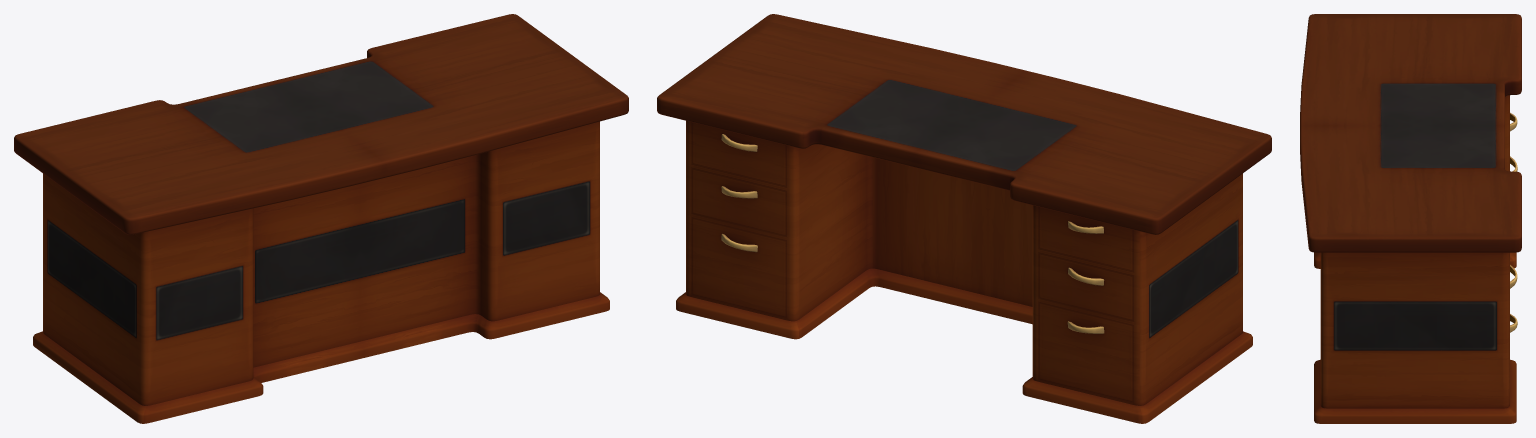
Rendered from OfficeDesk02_1.FBX.
3 renders of one model, left to right at view 1: azimuth 30°, elevation 25°; view 2: azimuth 150°, elevation 25°; view 3: azimuth 270°, elevation 25°, orthographic. The views are drawn at different scales.
Parts seen in each view (by area): view 1: OfficeDesk02_1; view 2: OfficeDesk02_1; view 3: OfficeDesk02_1.
Part boxes in pixels (<box>): OfficeDesk02_1: <box>14,14,628,423</box>; OfficeDesk02_1: <box>657,14,1271,423</box>; OfficeDesk02_1: <box>1300,14,1521,423</box>.
Size of what is drawn, in the model's own units: 2.25 by 0.9 by 0.9376.
